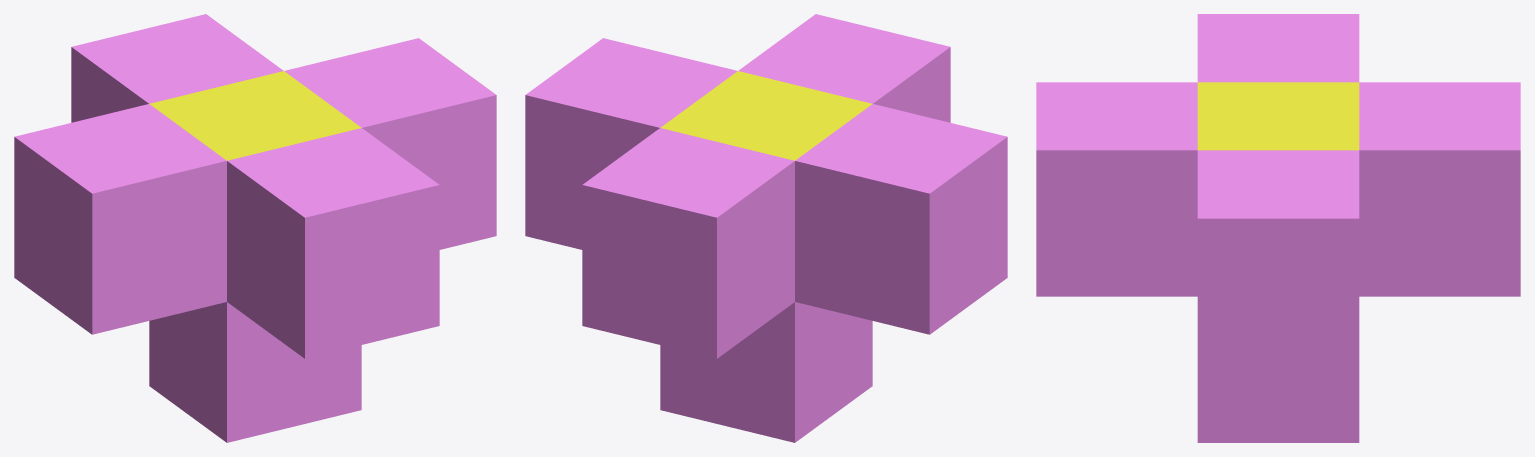
Rendered from cvetochek02.obj.
The picture shows the model from 3 angles, left to right: view 1: azimuth 30°, elevation 25°; view 2: azimuth 150°, elevation 25°; view 3: azimuth 270°, elevation 25°; orthographic projection. The views are drawn at different scales.
Size of the model in its own units: 0.3 by 0.2 by 0.3.
Materials: 1 (1 with a texture image).
